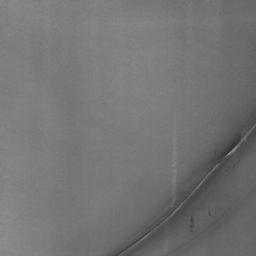Crease: (116, 124, 256, 256), (168, 208, 240, 256)
